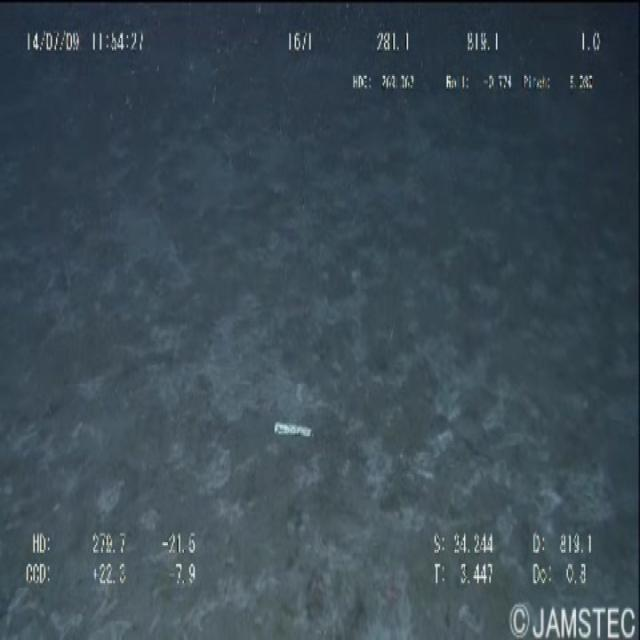Litter: (259, 397, 317, 463)
